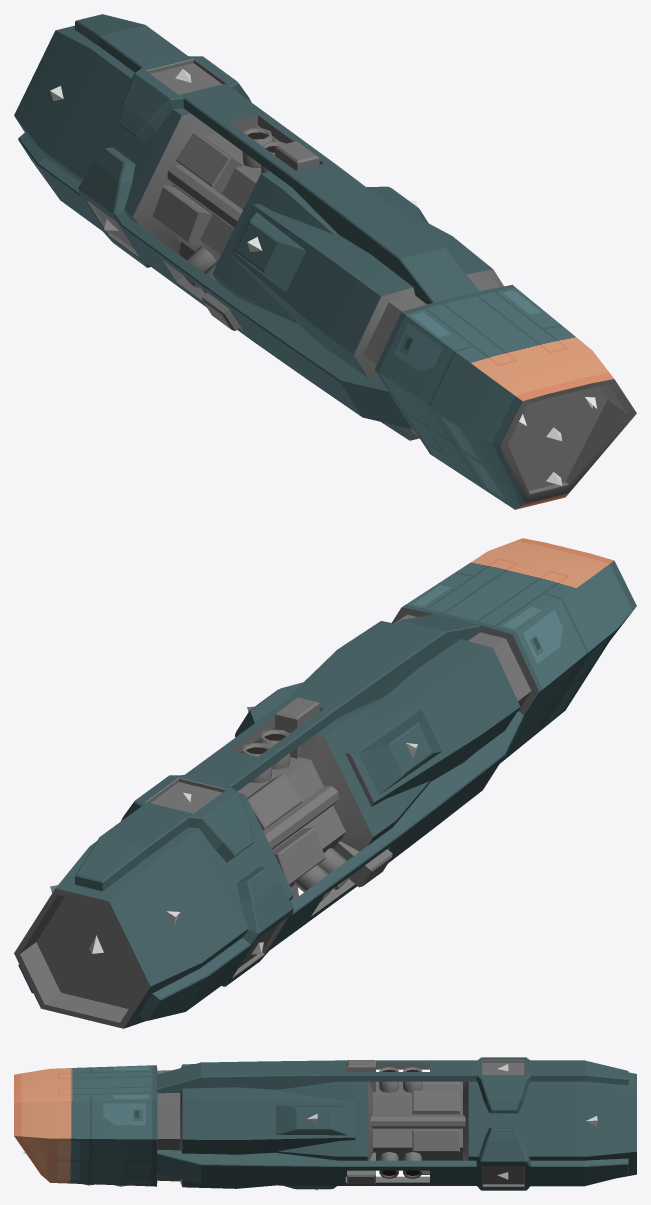
3 renders of one model, top to bottom at view 1: azimuth 30°, elevation 25°; view 2: azimuth 150°, elevation 25°; view 3: azimuth 270°, elevation 25°, orthographic. The views are drawn at different scales.
Parts seen in each view (by area): view 1: Front, Frame, Rear; view 2: Rear, Front, Frame; view 3: Front, Frame, Rear.
Boxes of the visible parts, box(x1,y1,x2,y2) form: Front: box(230, 186, 636, 509); Frame: box(18, 14, 479, 429); Rear: box(14, 25, 337, 323); Rear: box(14, 697, 429, 1028); Front: box(235, 538, 636, 806); Frame: box(18, 614, 523, 1020); Front: box(14, 1064, 355, 1189); Frame: box(157, 1057, 628, 1190); Rear: box(277, 1069, 636, 1177).
Size of the model in its own units: 12.04 by 12.69 by 56.02.
Materials: 2 (1 with a texture image).
